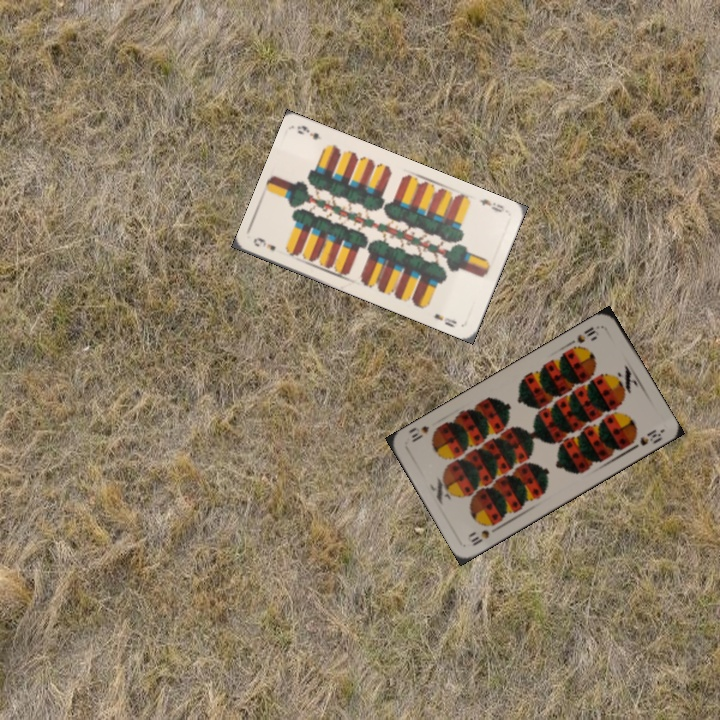E9: (475, 195, 507, 215), (249, 233, 278, 253)
S10: (463, 522, 502, 548), (573, 323, 598, 346)
